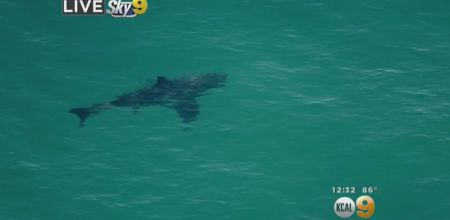shark: (61, 65, 232, 134)
